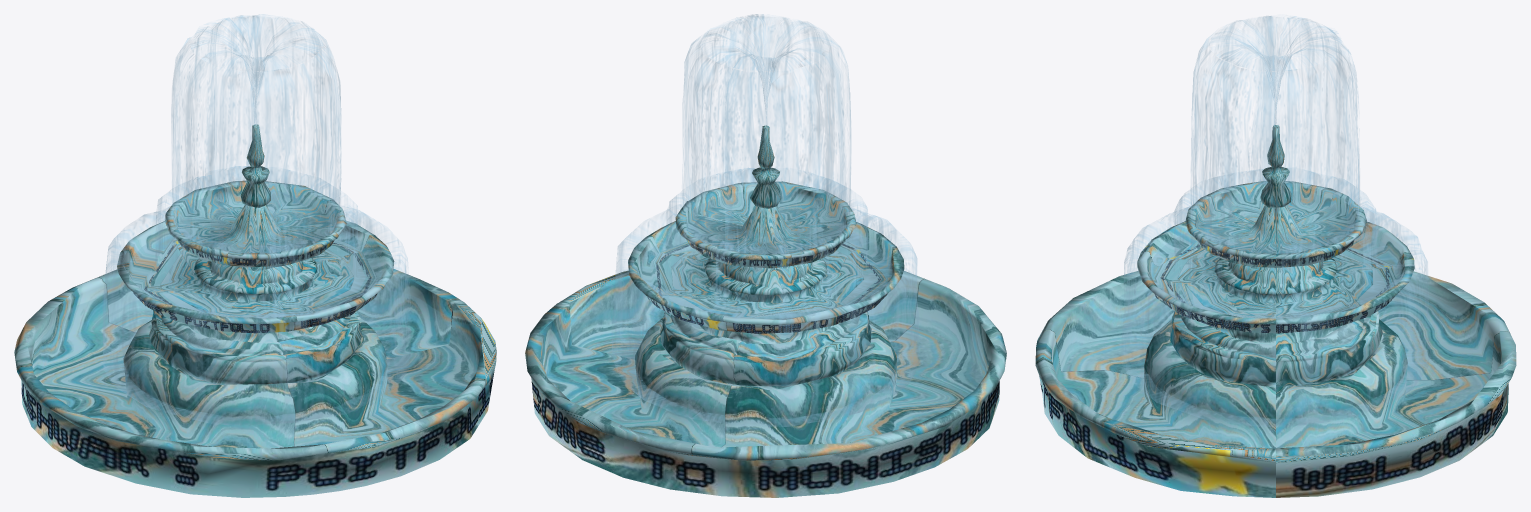
Rendered from fountain.b367b7e0.glb.
3 renders of one model, left to right at view 1: azimuth 30°, elevation 25°; view 2: azimuth 150°, elevation 25°; view 3: azimuth 270°, elevation 25°, orthographic.
Visible parts, largest first — view 1: f_base, f_flow_water, f_base_water, f_water_mid, f_water_top; view 2: f_base, f_flow_water, f_base_water, f_water_mid, f_water_top; view 3: f_base, f_flow_water, f_base_water, f_water_mid, f_water_top.
Part boxes in pixels (x1=…): f_base: x1=14, y1=124, x2=496, y2=497; f_flow_water: x1=102, y1=14, x2=410, y2=424; f_base_water: x1=34, y1=287, x2=477, y2=448; f_water_mid: x1=129, y1=232, x2=381, y2=317; f_water_top: x1=176, y1=191, x2=335, y2=252; f_base: x1=525, y1=125, x2=1006, y2=497; f_flow_water: x1=611, y1=14, x2=918, y2=426; f_base_water: x1=545, y1=287, x2=987, y2=446; f_water_mid: x1=640, y1=233, x2=891, y2=318; f_water_top: x1=687, y1=191, x2=845, y2=253; f_base: x1=1035, y1=125, x2=1516, y2=497; f_flow_water: x1=1122, y1=16, x2=1430, y2=426; f_base_water: x1=1054, y1=287, x2=1497, y2=448; f_water_mid: x1=1150, y1=233, x2=1401, y2=318; f_water_top: x1=1196, y1=191, x2=1354, y2=253.
Size of the model in its own units: 3.72 by 3.08 by 3.7.
Materials: 5 (5 with a texture image).
